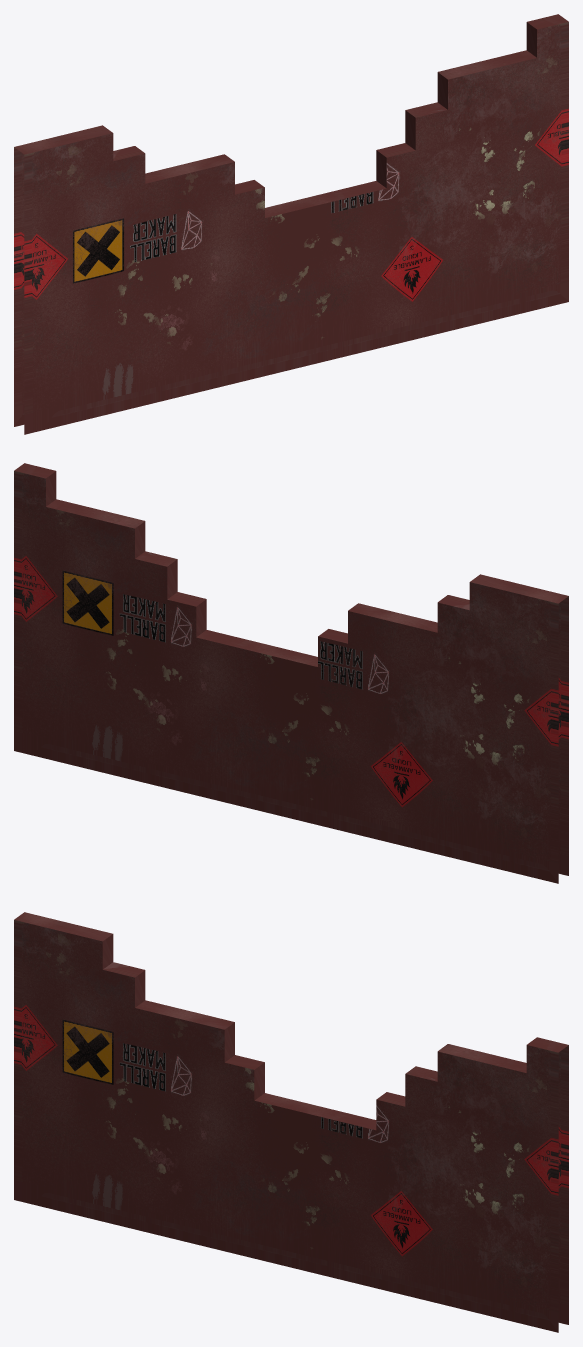
Rendered from CS_wall_UC.FBX.
The picture shows the model from 3 angles, top to bottom: view 1: azimuth 30°, elevation 25°; view 2: azimuth 150°, elevation 25°; view 3: azimuth 330°, elevation 25°; orthographic projection.
Parts seen in each view (by area): view 1: SM_wall_UC; view 2: SM_wall_UC; view 3: SM_wall_UC.
Boxes of the visible parts, x1=… form: SM_wall_UC: x1=14, y1=14, x2=568, y2=434; SM_wall_UC: x1=14, y1=463, x2=568, y2=883; SM_wall_UC: x1=14, y1=912, x2=568, y2=1332.
Bounding box in the file's own units: 600 × 20 × 295.
